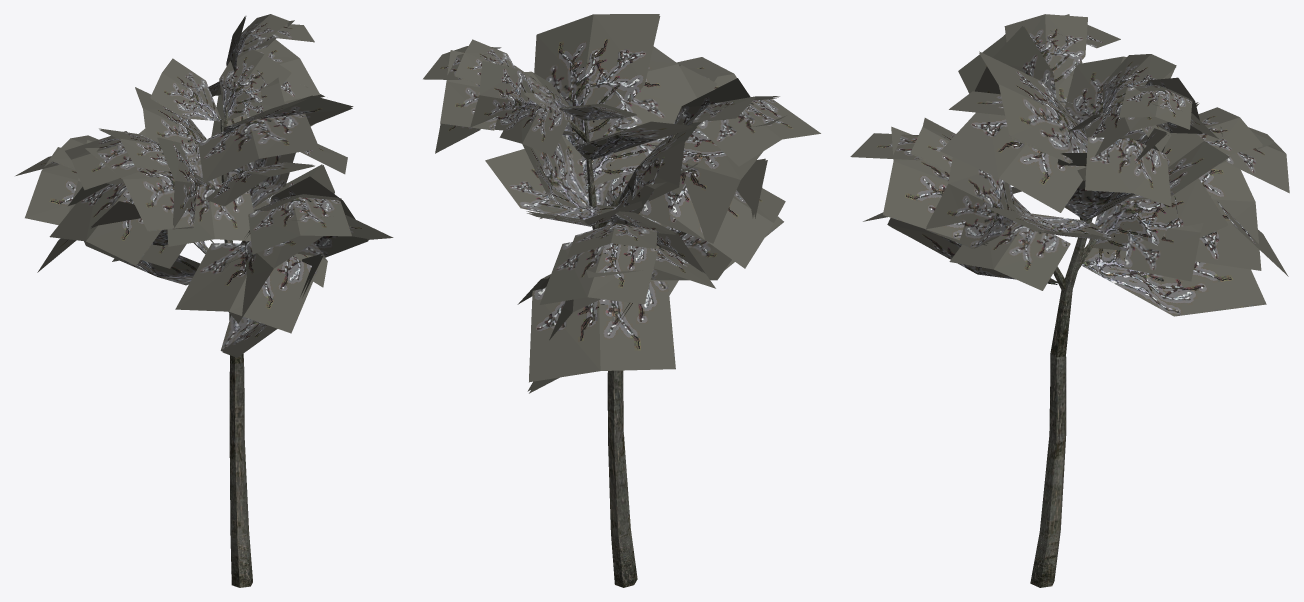
The model's file is flora_tree_temperate_winter_v2.glb.
3 renders of one model, left to right at view 1: azimuth 30°, elevation 25°; view 2: azimuth 150°, elevation 25°; view 3: azimuth 270°, elevation 25°, orthographic. The views are drawn at different scales.
Parts seen in each view (by area): view 1: flora_tree_temperate_winter_v2_part0; view 2: flora_tree_temperate_winter_v2_part0; view 3: flora_tree_temperate_winter_v2_part0.
Boxes of the visible parts, left/top/right/bottom form: flora_tree_temperate_winter_v2_part0: left=15, top=14, right=393, bottom=587; flora_tree_temperate_winter_v2_part0: left=423, top=14, right=820, bottom=587; flora_tree_temperate_winter_v2_part0: left=850, top=14, right=1289, bottom=587.
Size of the model in its own units: 9.35 by 15.34 by 11.29.
1 material, 1 textured.
